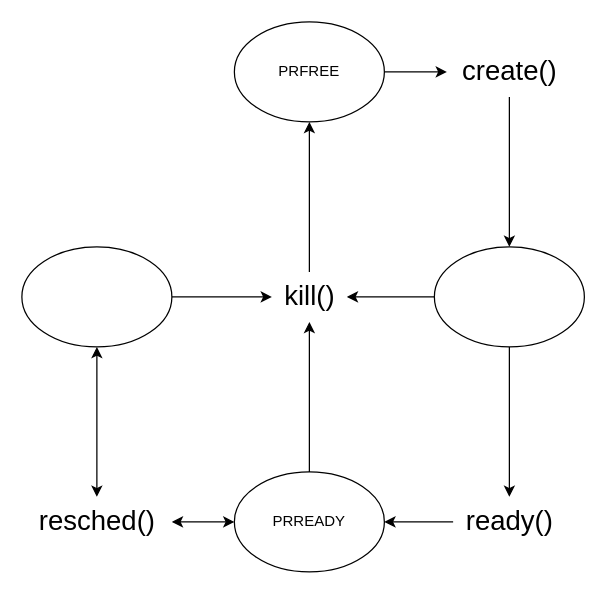
This 606x604 diagram has some shape labels left out. Each missing label, with the box of its shape:
PRCURR: (21, 246, 172, 347)
PRSUSP: (433, 246, 584, 347)
